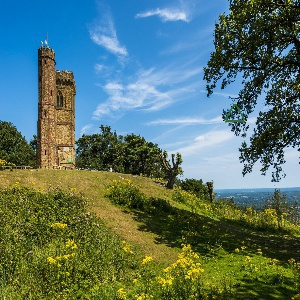triangle: (222, 103, 248, 125)
